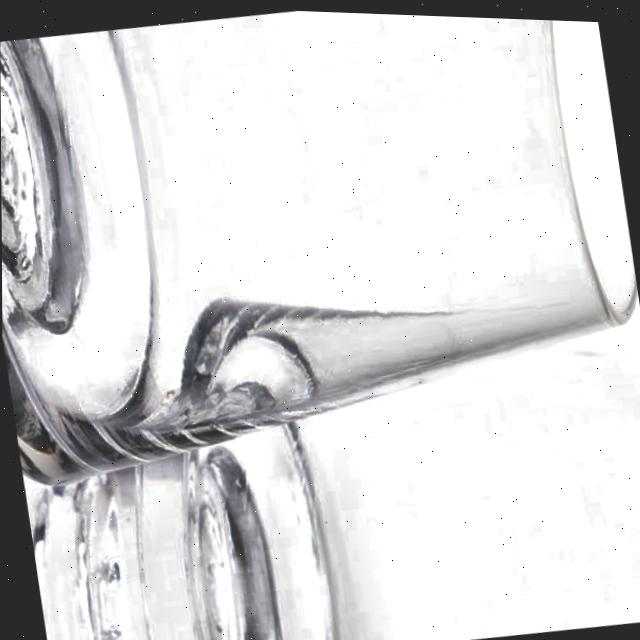glass: (0, 9, 637, 491), (33, 342, 640, 640)
